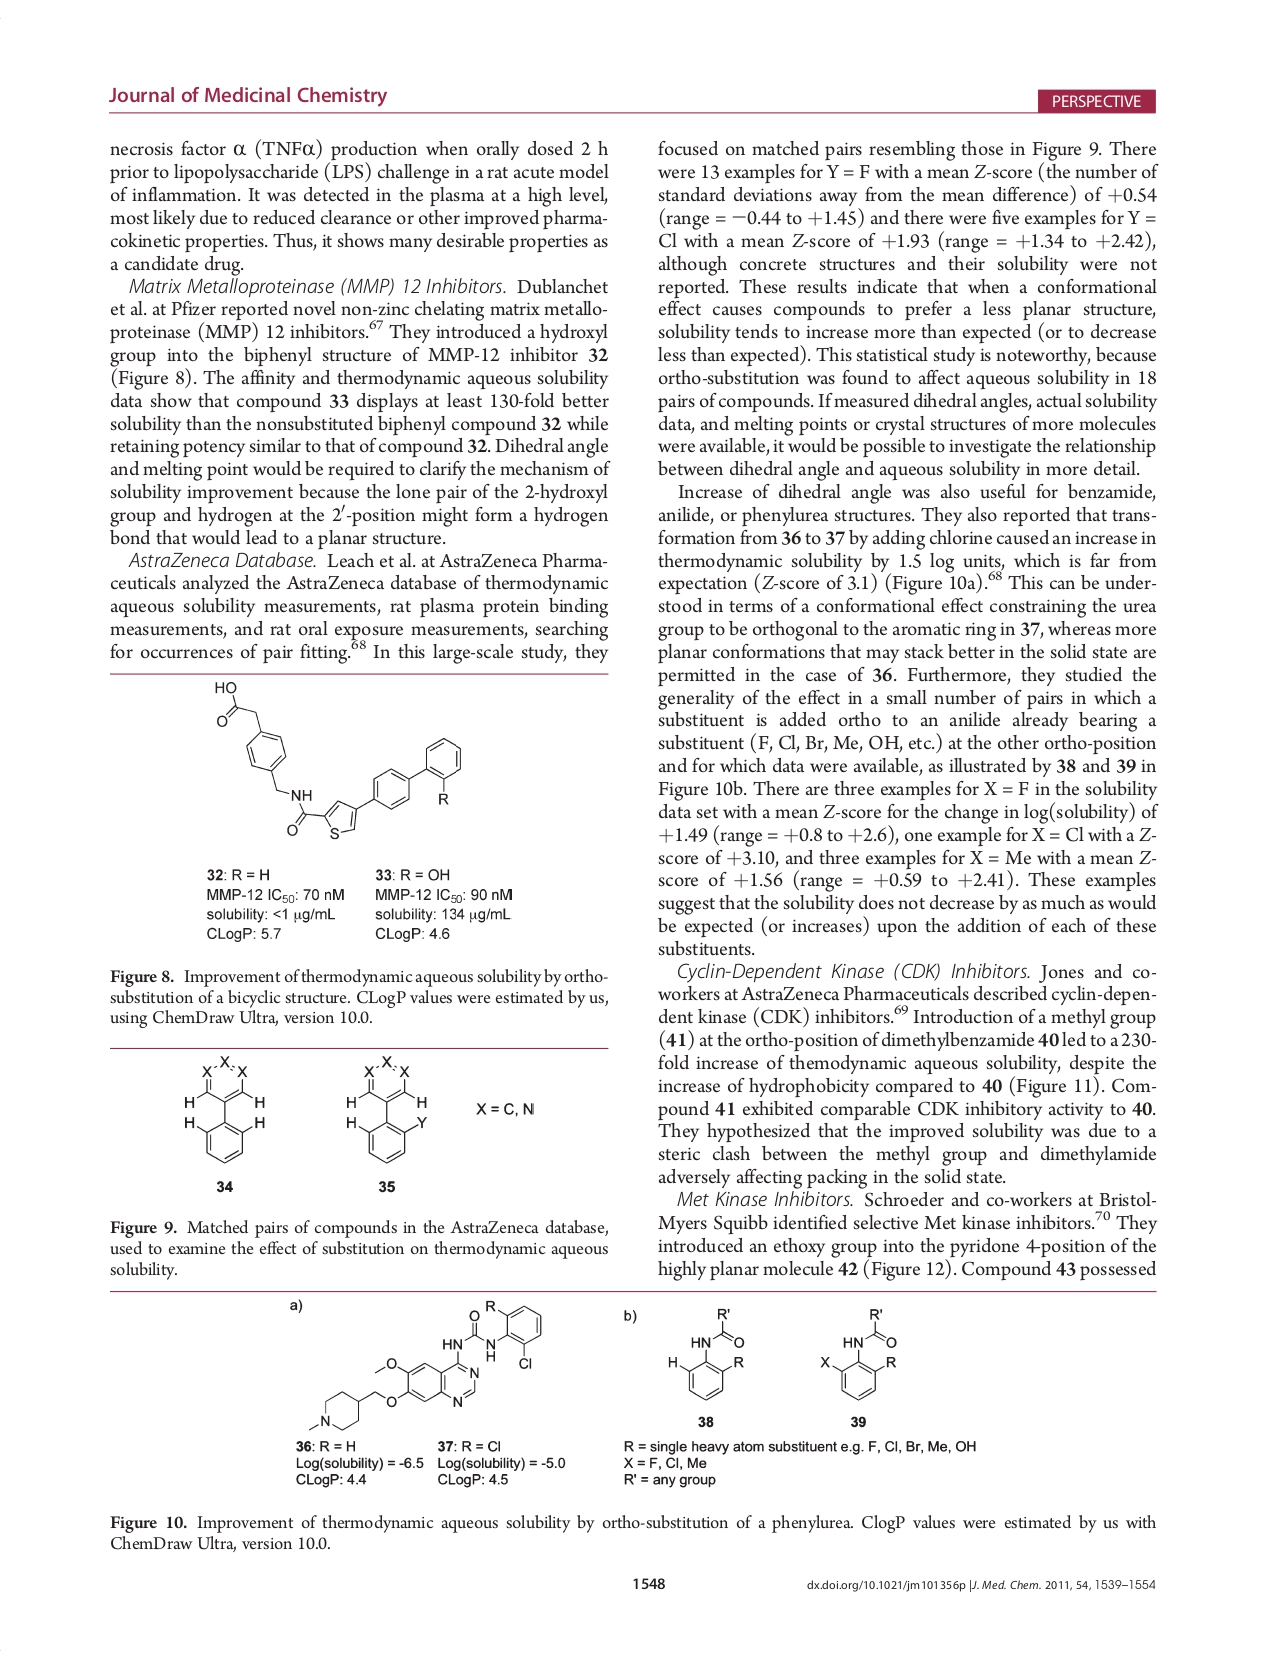exist_molecular: (207, 680, 461, 840), (305, 1298, 543, 1435), (180, 1053, 269, 1168), (342, 1055, 430, 1164), (661, 1305, 750, 1404), (817, 1305, 902, 1400)
